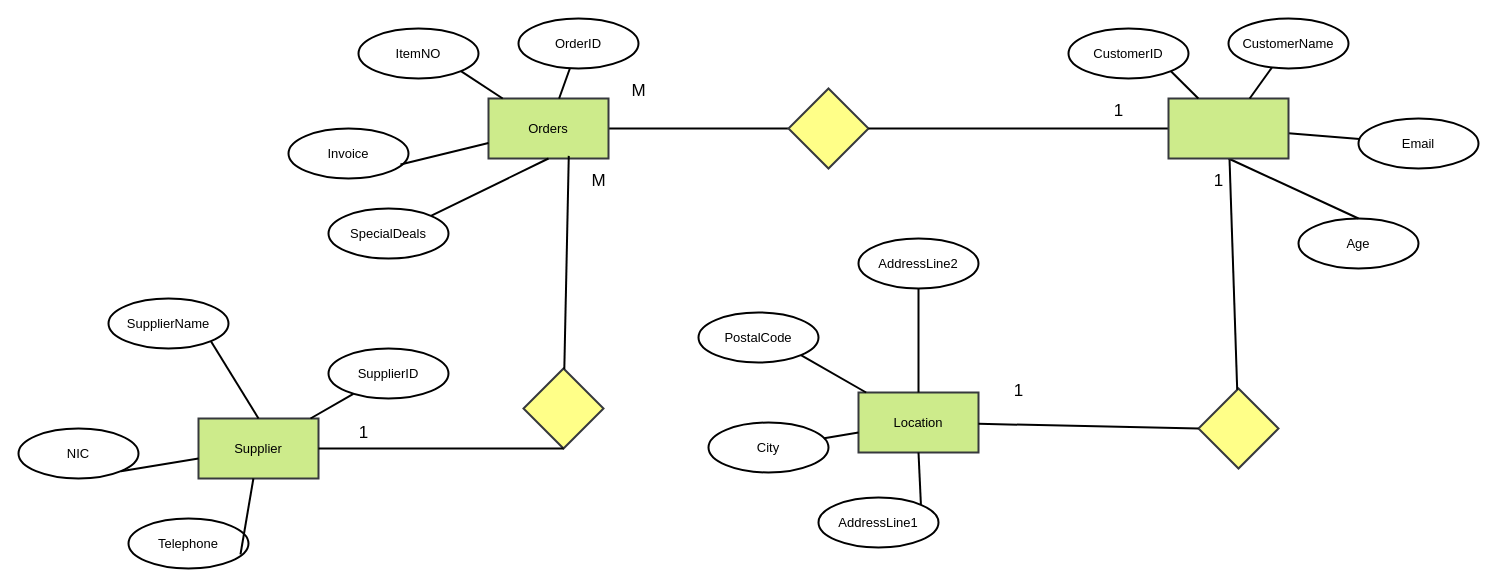
Some shapes in this 1496 by 586 pixel diagram are drawn without their labels. Each missing label, with the box of its shape:
Customer: (1167, 97, 1289, 159)
Has: (1197, 387, 1279, 469)
Have: (787, 87, 869, 169)
Supply: (522, 367, 604, 449)
